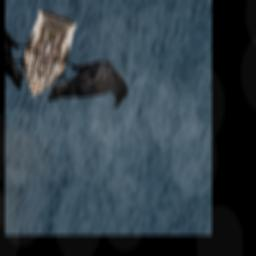Crow: (45, 45, 134, 128)
